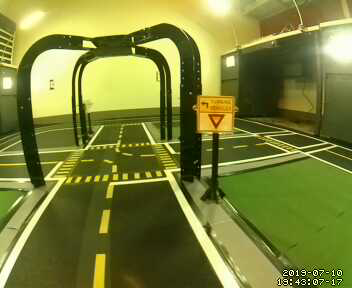Turn Yield: (196, 96, 237, 134)
